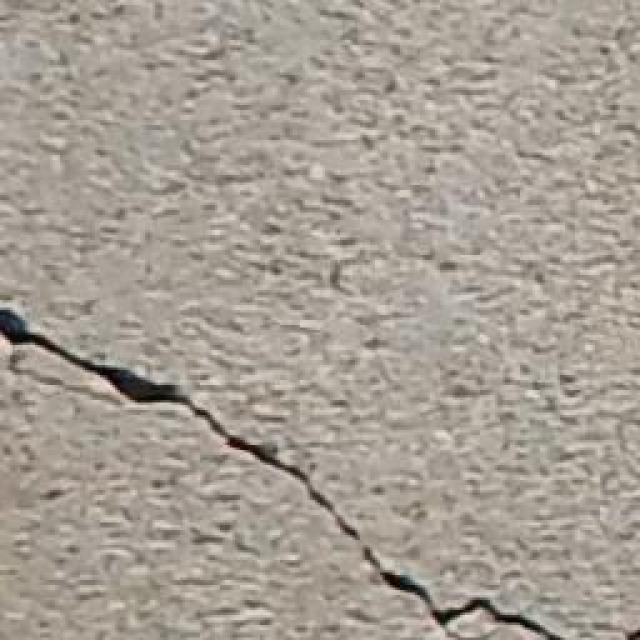concrete-crack: (0, 305, 573, 640)
